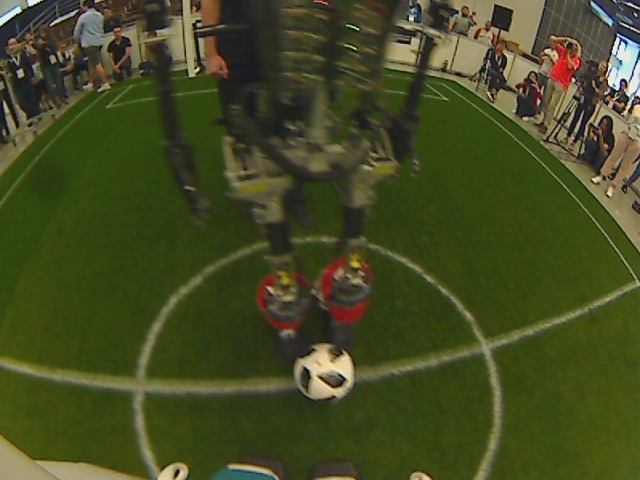ball: (292, 340, 357, 402)
